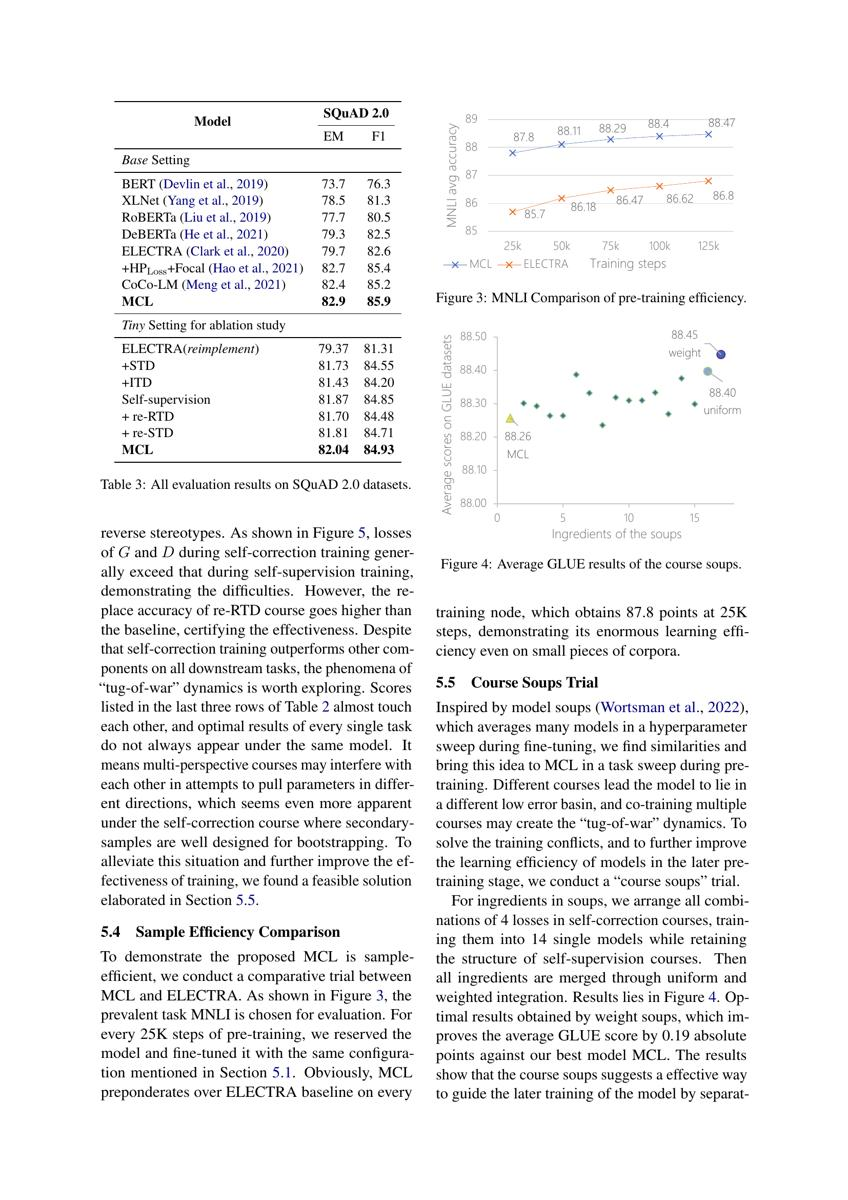figure: (436, 323, 746, 577), (431, 109, 749, 310)
table: (96, 98, 414, 497)
text: (430, 602, 753, 1107), (95, 521, 418, 911), (95, 921, 418, 1106)
